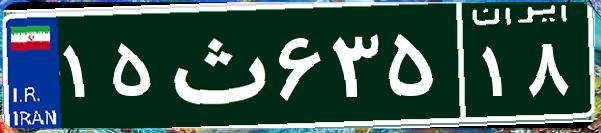1: (57, 26, 110, 107), (475, 38, 525, 113)
3: (330, 28, 385, 110)
5: (385, 28, 445, 110), (110, 28, 158, 105)
6: (273, 28, 330, 110)
8: (525, 38, 570, 115)
ث: (158, 15, 273, 115)
